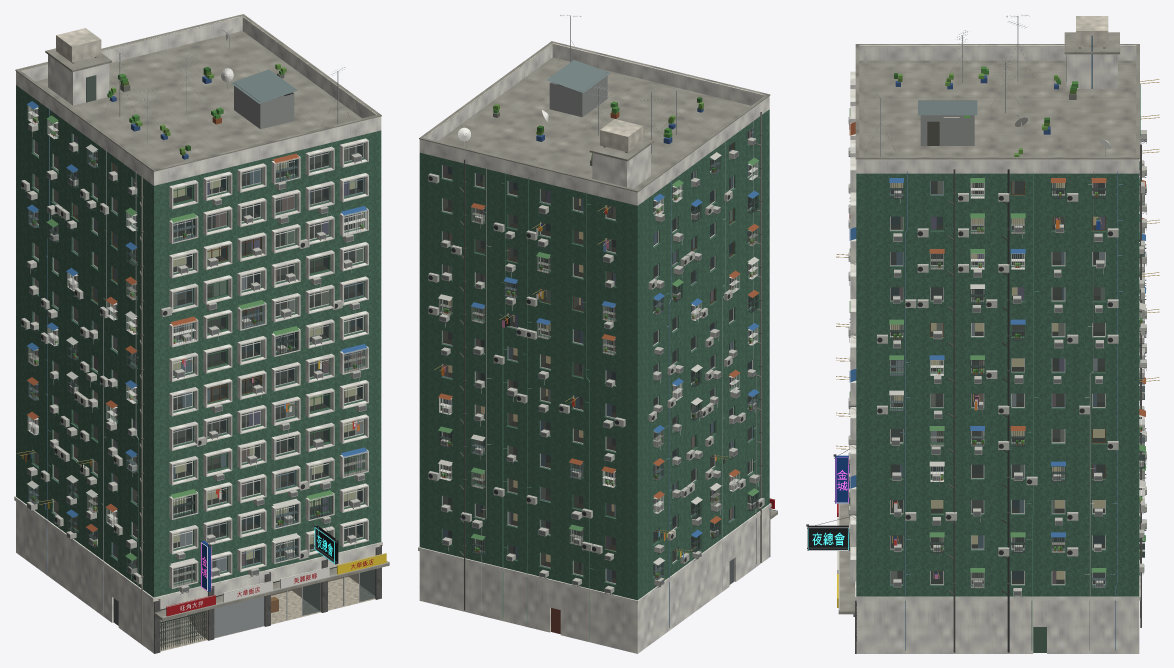
The model's file is hk-mosaic-tower.glb.
3 renders of one model, left to right at view 1: azimuth 30°, elevation 25°; view 2: azimuth 150°, elevation 25°; view 3: azimuth 270°, elevation 25°, orthographic. The views are drawn at different scales.
Parts seen in each view (by area): view 1: Building_wall, Building_hood, Building_slab, Building_glass, Building_metal, Building_vc, Building_room, Building_frame, Building_ac, Building_board, Building_floor_tile, Building_tin (+4 smaller); view 2: Building_wall, Building_hood, Building_slab, Building_vc, Building_metal, Building_glass, Building_ac, Building_room, Building_frame, Building_tin, Building_tank; view 3: Building_wall, Building_hood, Building_slab, Building_vc, Building_glass, Building_metal, Building_ac, Building_room, Building_frame, Building_board, Building_tin, Building_lit_warm (+2 smaller).
Part boxes in pixels (<box>): Building_wall: <box>16,85,381,597</box>; Building_hood: <box>14,16,382,653</box>; Building_slab: <box>15,14,389,645</box>; Building_glass: <box>34,109,375,615</box>; Building_metal: <box>21,30,389,650</box>; Building_vc: <box>22,29,367,643</box>; Building_room: <box>34,96,374,639</box>; Building_frame: <box>33,96,363,619</box>; Building_ac: <box>21,123,366,592</box>; Building_board: <box>166,525,386,616</box>; Building_floor_tile: <box>160,577,375,651</box>; Building_tin: <box>234,82,294,129</box>; Building_wall: <box>419,109,769,600</box>; Building_hood: <box>418,43,771,653</box>; Building_slab: <box>419,41,777,519</box>; Building_vc: <box>438,60,761,638</box>; Building_metal: <box>428,15,777,633</box>; Building_glass: <box>443,129,752,583</box>; Building_ac: <box>428,137,764,593</box>; Building_room: <box>443,84,751,582</box>; Building_frame: <box>442,84,752,583</box>; Building_tin: <box>549,72,607,117</box>; Building_tank: <box>600,119,643,152</box>; Building_wall: <box>856,110,1140,596</box>; Building_hood: <box>850,45,1140,653</box>; Building_slab: <box>838,32,1139,614</box>; Building_vc: <box>849,35,1146,652</box>; Building_glass: <box>890,181,1104,584</box>; Building_metal: <box>806,14,1146,652</box>; Building_ac: <box>849,116,1146,596</box>; Building_room: <box>891,117,1104,583</box>; Building_frame: <box>890,181,1105,584</box>; Building_board: <box>807,455,849,607</box>; Building_tin: <box>920,100,974,145</box>; Building_lit_warm: <box>891,183,1104,579</box>.
Size of the model in its own units: 23 by 44.73 by 26.21.
21 materials, 9 textured.
